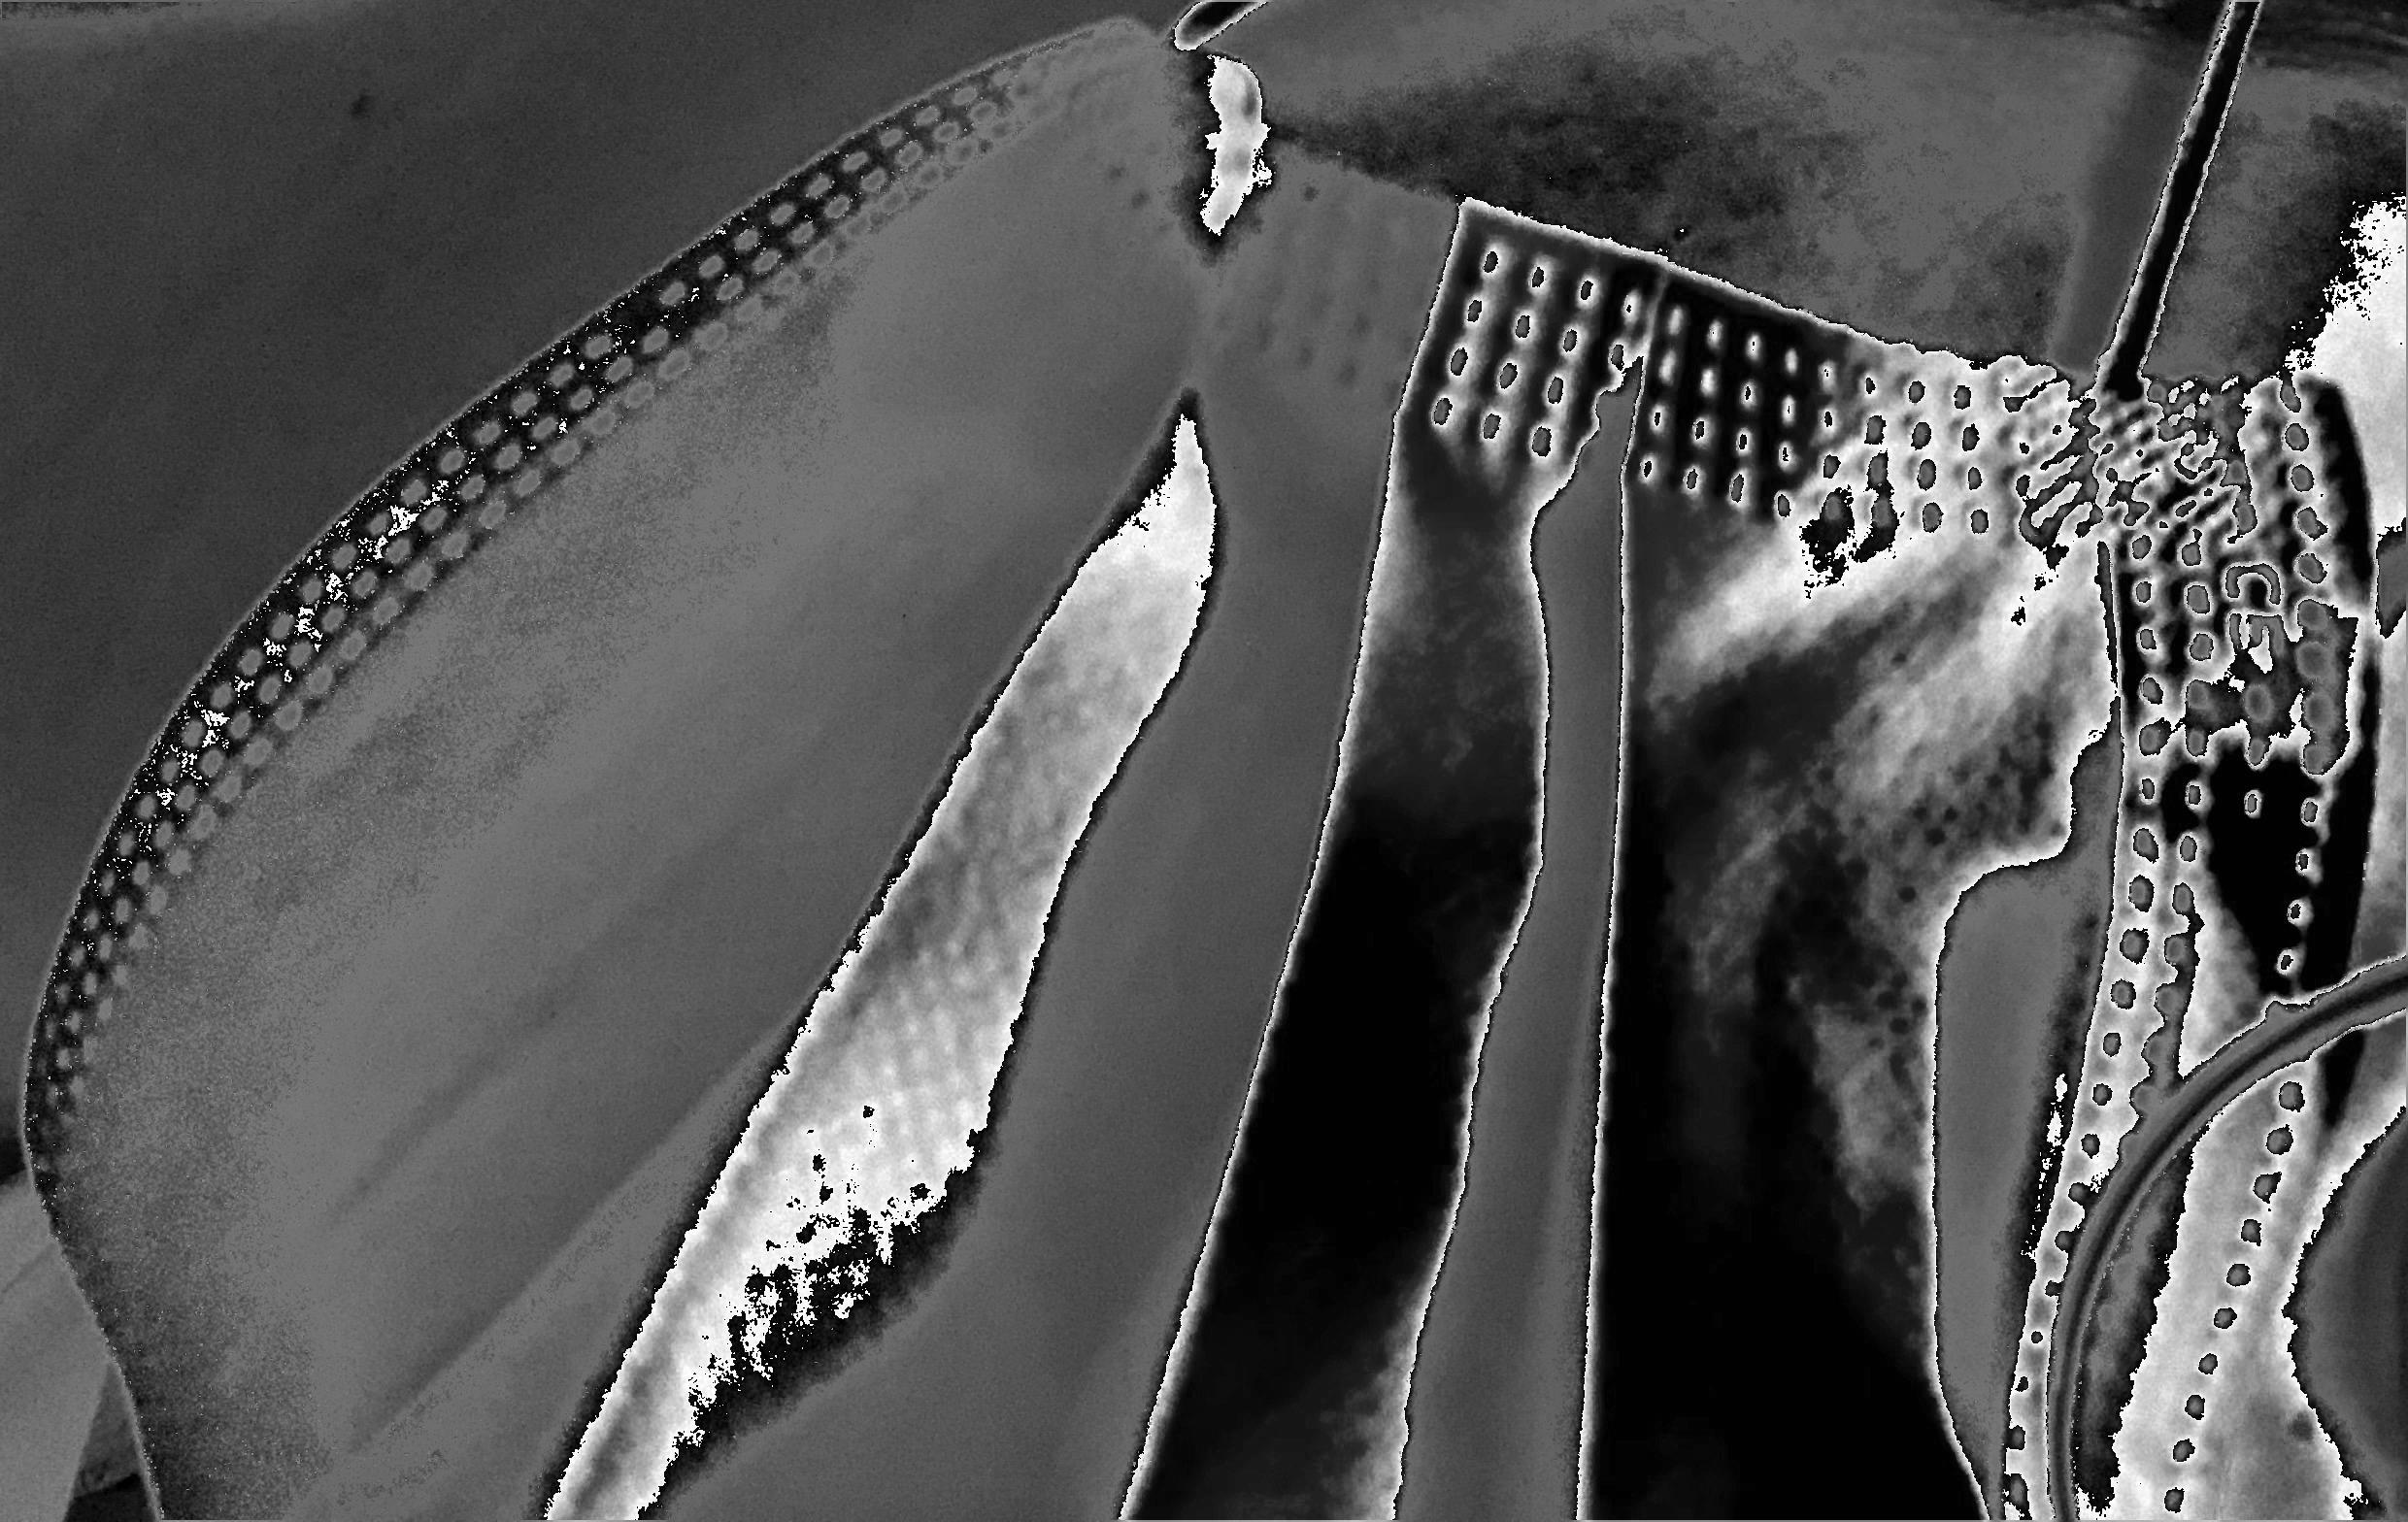High GSM: (1596, 968, 1961, 1522), (1289, 805, 1489, 1292)
Undefined Area: (2036, 943, 2404, 1522)
